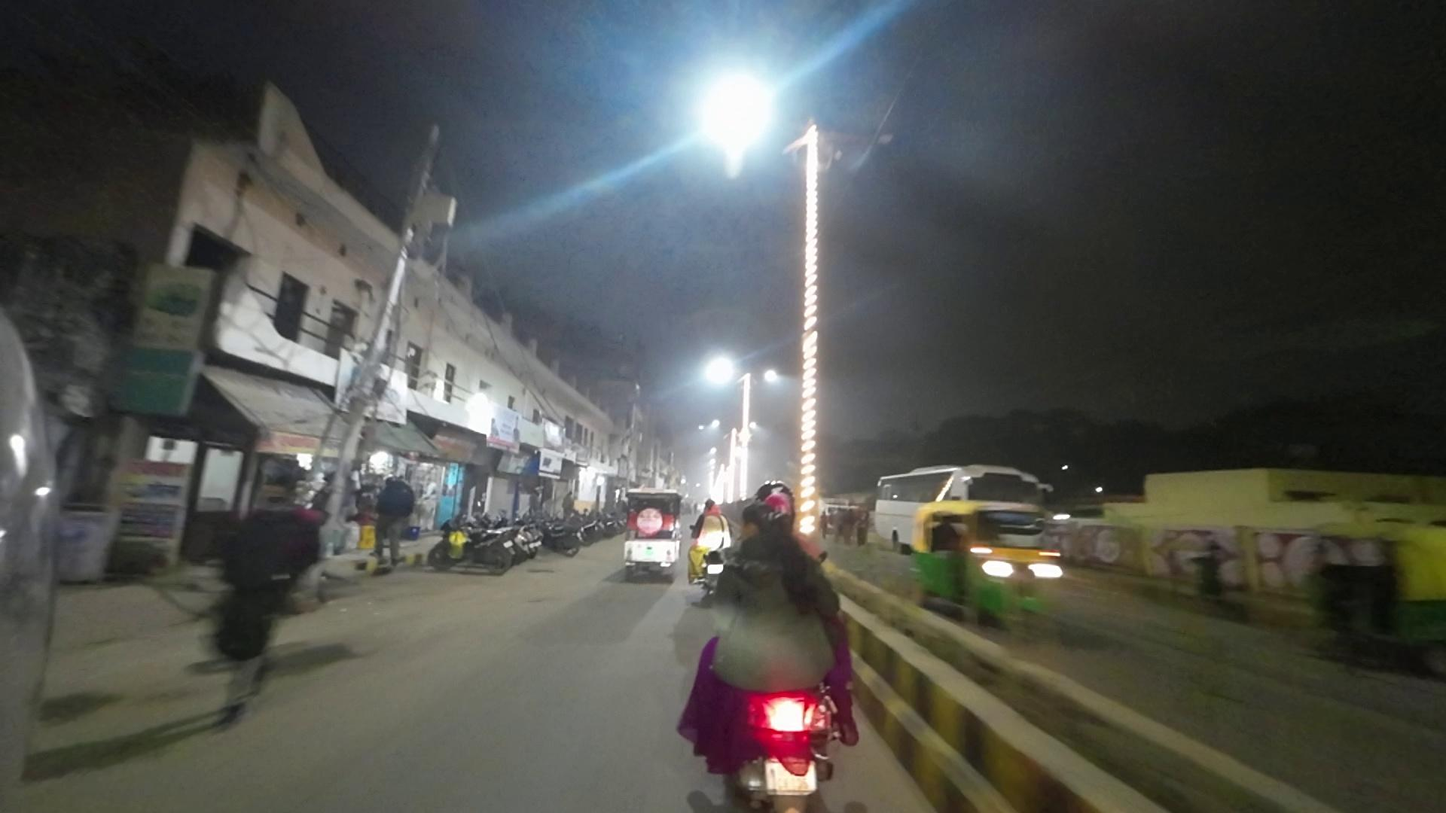streetlight: (831, 129, 899, 149)
